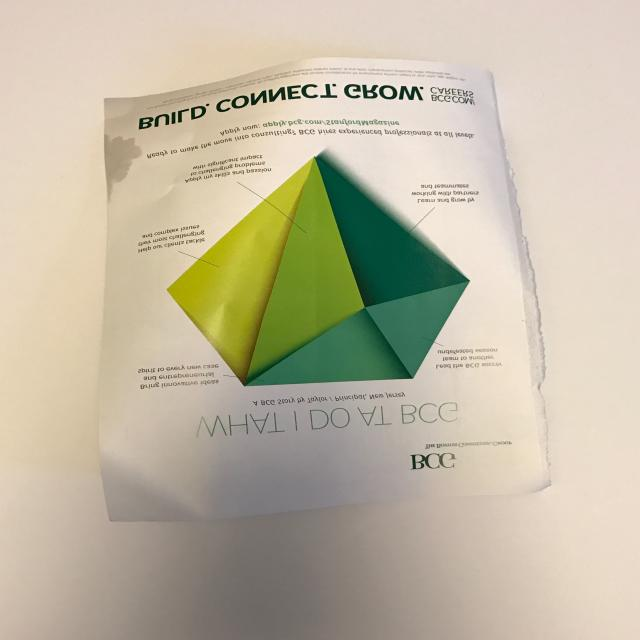paper: (75, 46, 574, 532)
